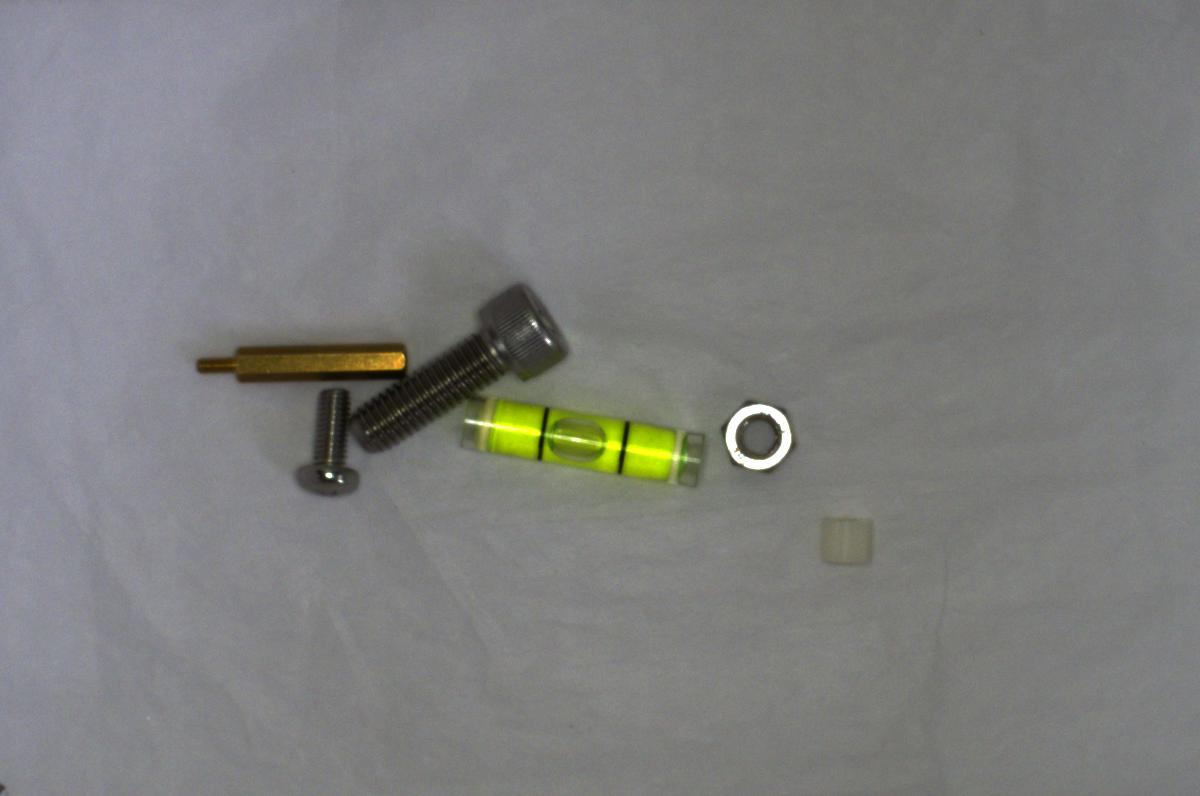Hexagon nut: (713, 385, 802, 485)
Hexagon pillar: (193, 334, 410, 387)
Hexagon screw: (354, 283, 567, 456)
Horizontal bubble: (446, 389, 713, 494)
Plastic cushion pillar: (808, 505, 875, 572)
Round head screw: (291, 383, 367, 500)
